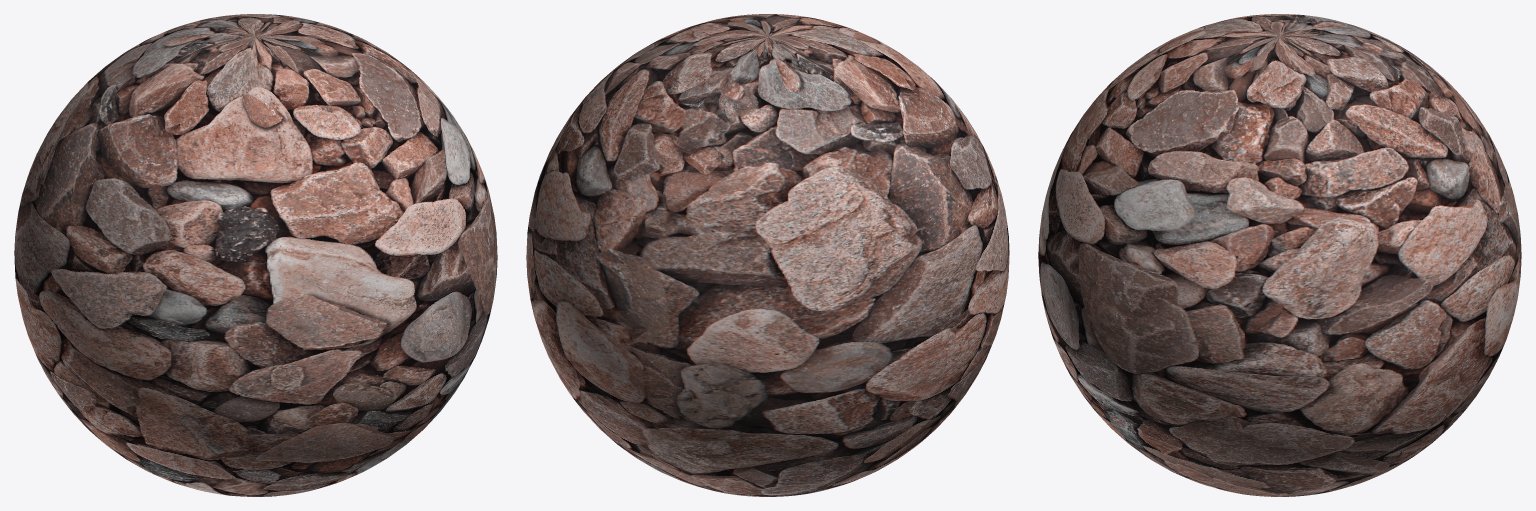
File: smooth_sphere_80.obj
3 renders of one model, left to right at view 1: azimuth 30°, elevation 25°; view 2: azimuth 150°, elevation 25°; view 3: azimuth 270°, elevation 25°, orthographic.
Visible parts, largest first — view 1: Sphere001; view 2: Sphere001; view 3: Sphere001.
Boxes of the visible parts, bbox=[...] form: Sphere001: bbox=[14, 14, 497, 496]; Sphere001: bbox=[526, 14, 1009, 496]; Sphere001: bbox=[1038, 14, 1521, 496].
Bounding box in the file's own units: 1.96 × 1.96 × 1.96.
